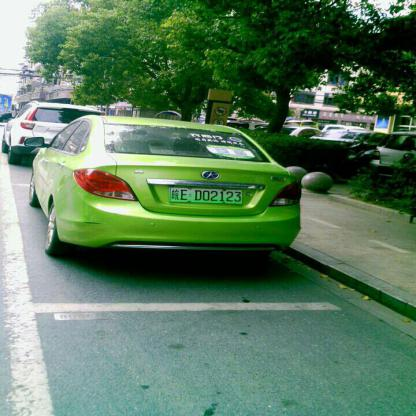lp: (169, 186, 242, 202)
